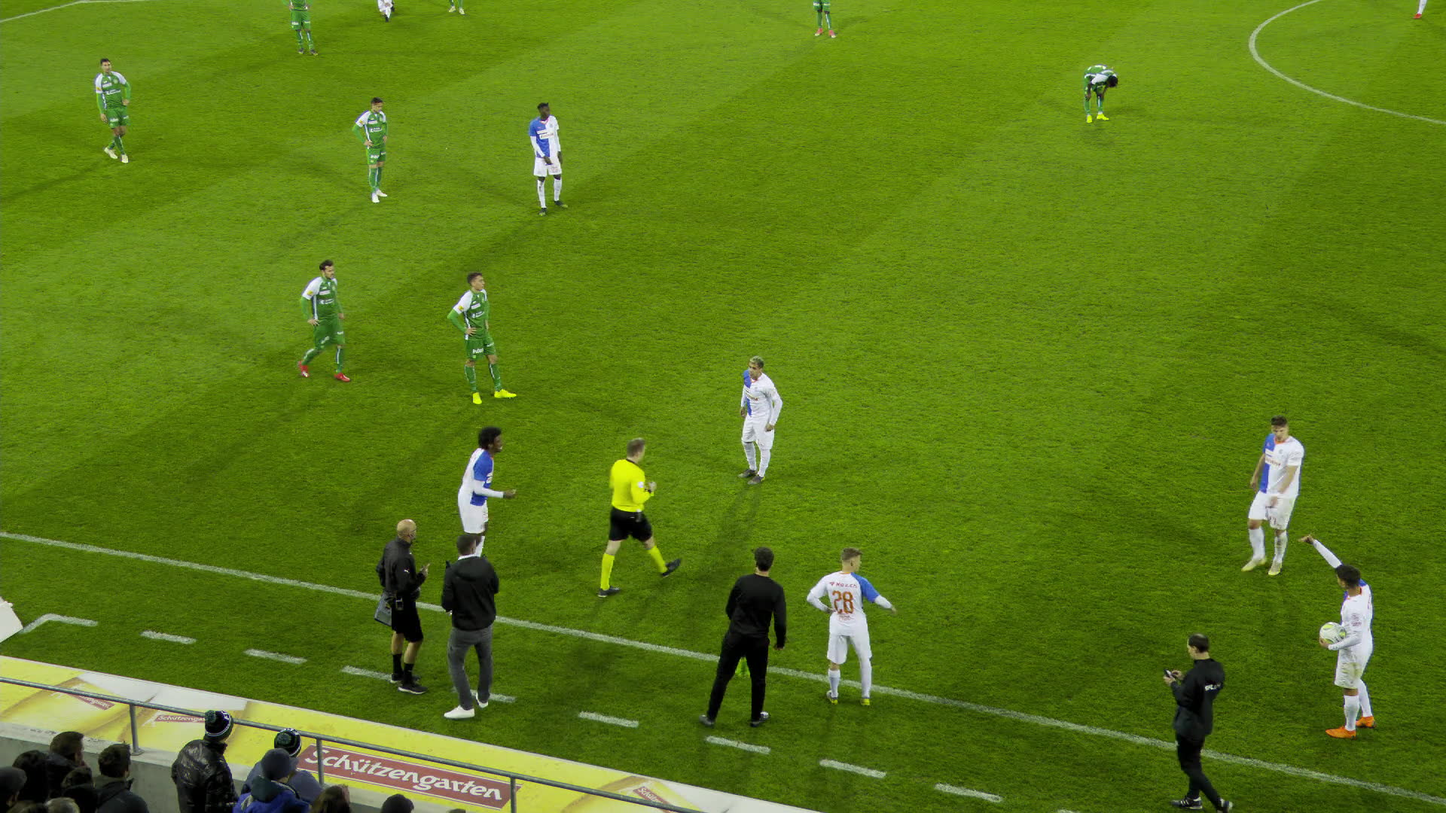ball: (1319, 622, 1344, 644)
player: (1296, 534, 1374, 738), (807, 547, 898, 705), (1235, 419, 1303, 582), (447, 272, 513, 403), (456, 425, 510, 563), (297, 259, 352, 382), (739, 357, 782, 486), (529, 102, 565, 215), (350, 98, 387, 204), (94, 58, 131, 163), (279, 0, 317, 57), (1081, 62, 1117, 122), (812, 0, 835, 38), (377, 0, 394, 21), (1407, 0, 1426, 18), (446, 0, 462, 16)
referee: (593, 437, 659, 594)
